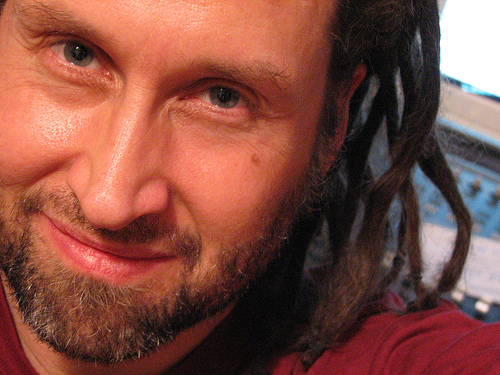without_mask: (1, 1, 374, 372)
